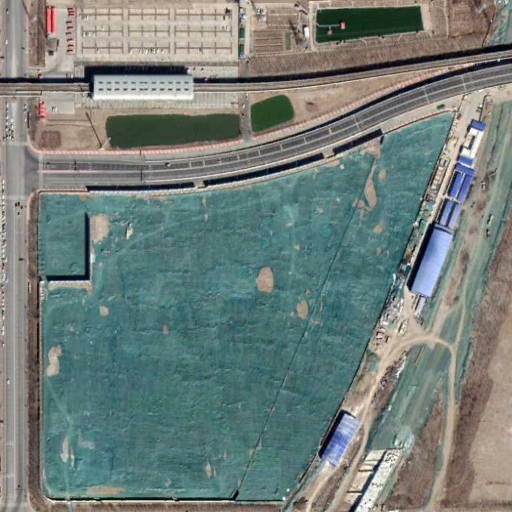cw: (35, 112, 453, 500)
